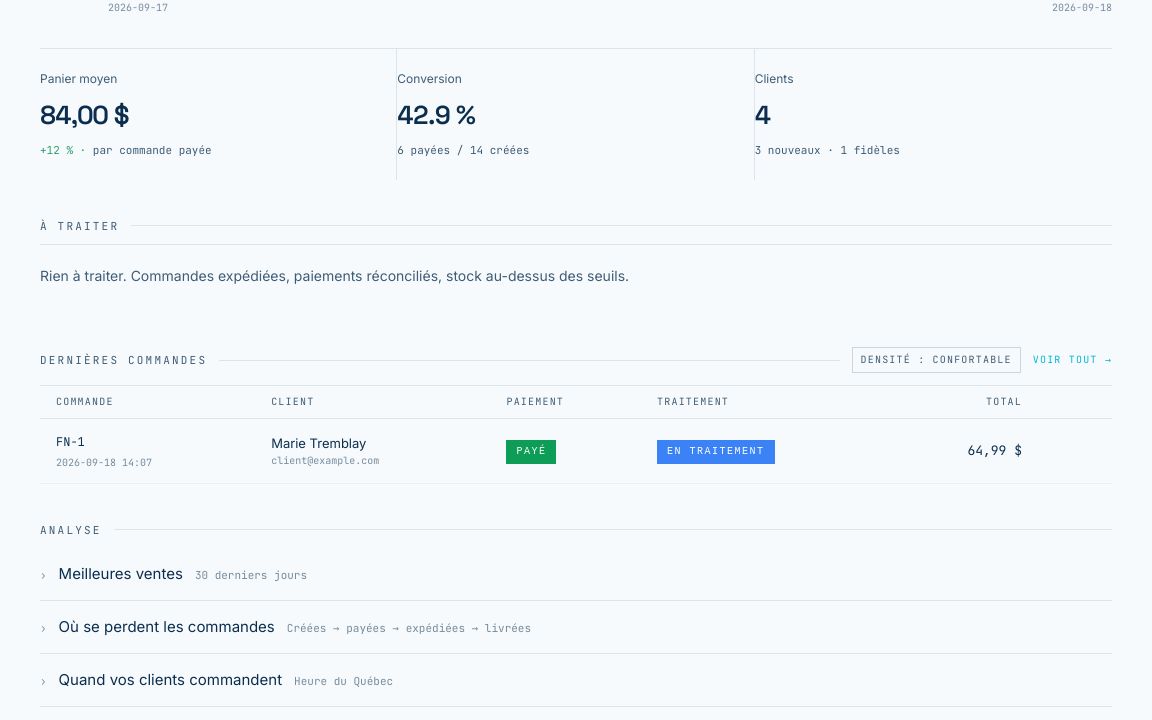
la densite du tableau se regle et se retient
This screenshot has width=1152, height=720.
(page scrolled)
Click the button with test id "densite": x=936, y=360 [852,348,1021,374]
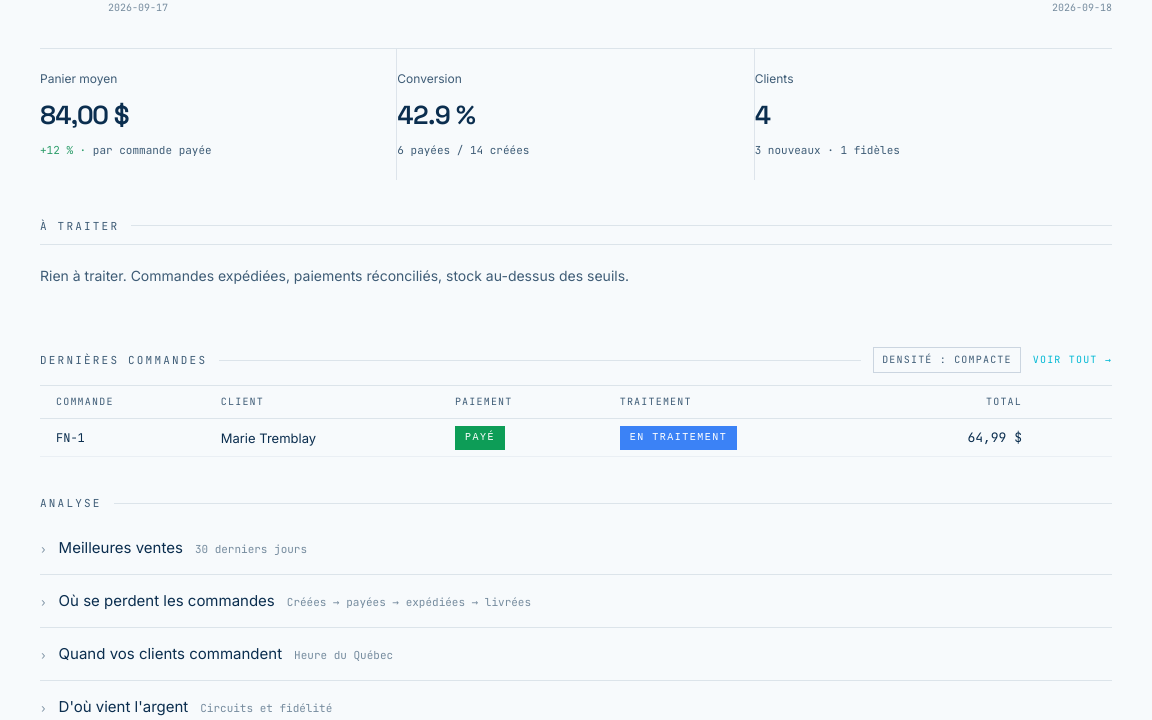
Expected: the button with test id "densite" shows "compacte", [873,348,1021,374]
